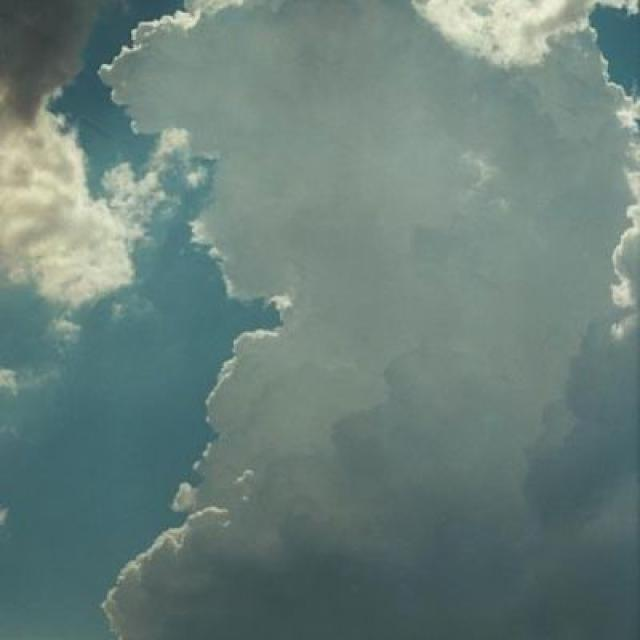Cb: (1, 16, 640, 570)
